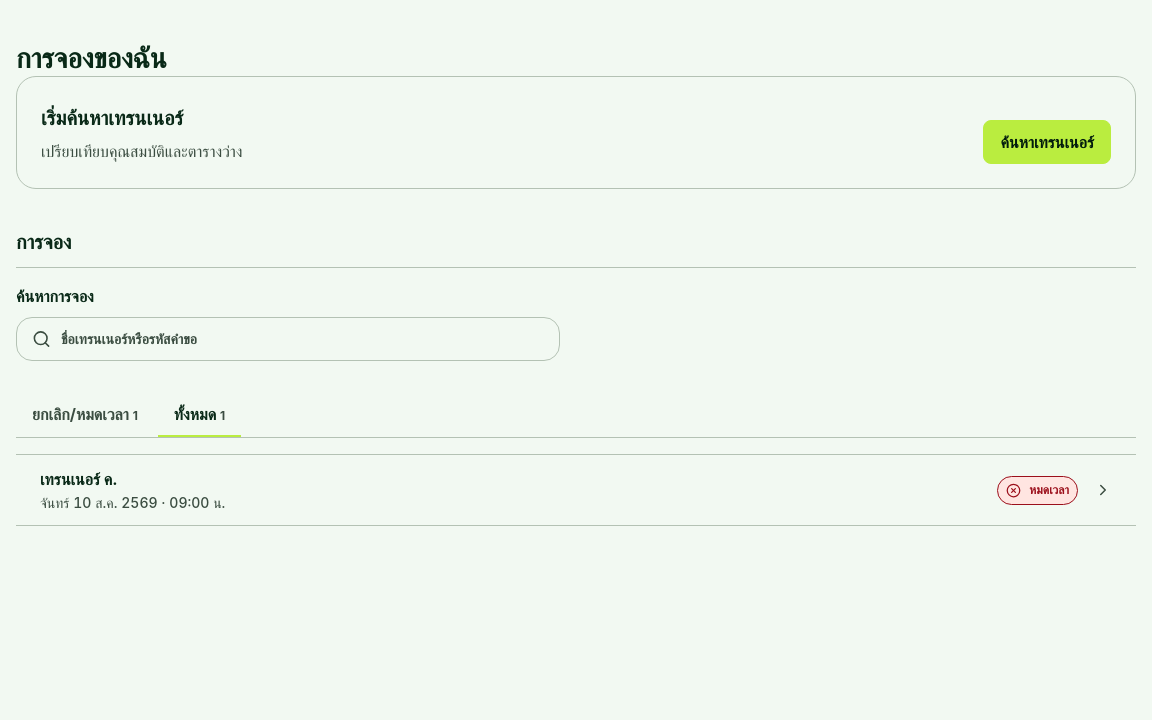
member role dashboard › explains an expired booking and never mounts the upload action
Click the button with test id "booking-summary".
click(79, 479)  # box [16, 455, 1136, 526]
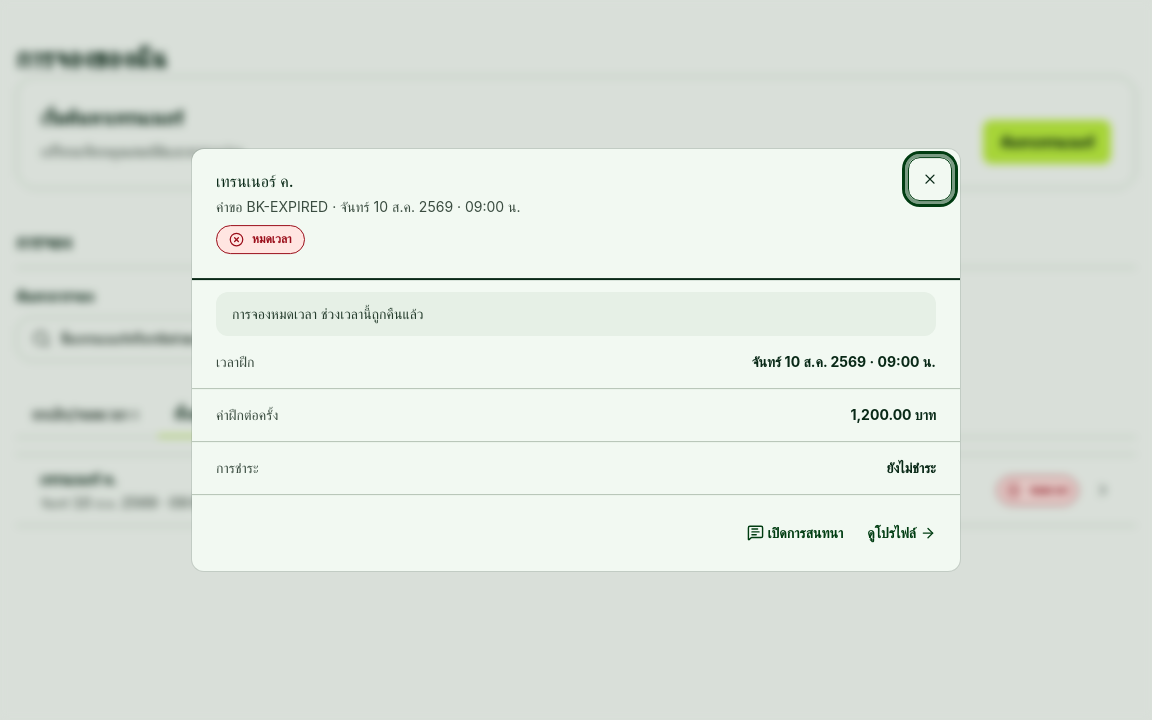
Expected: the text "การจองหมดเวลา ช่วงเวลานี้ถูกคืนแล้ว" is shown, [216, 292, 936, 336]
